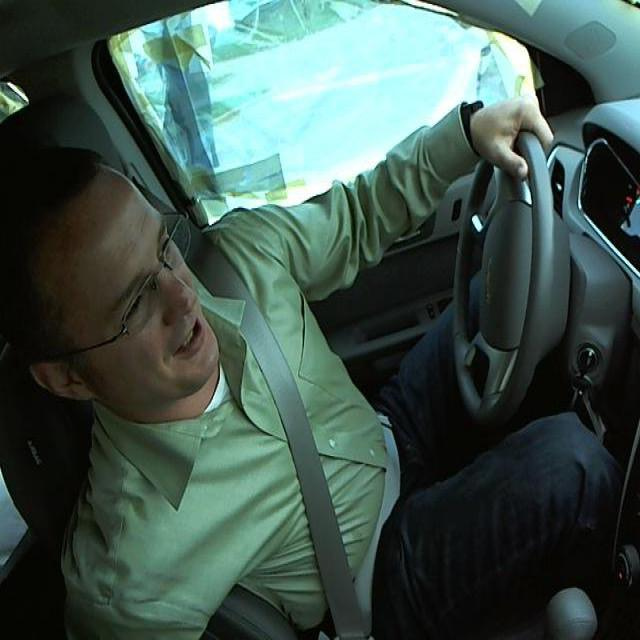seatbelt: (208, 286, 367, 626)
